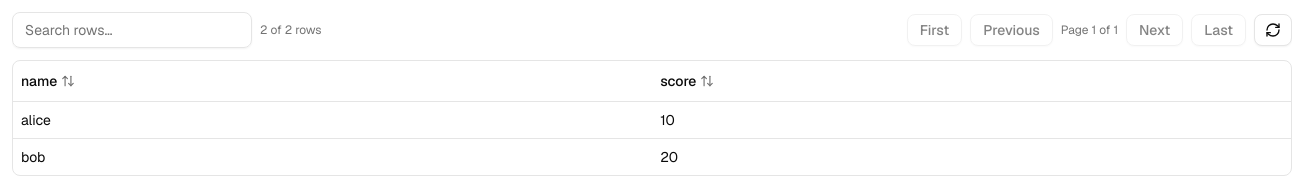
CSVViewer › filters rows by the search query
Expected: the text "alice" is shown, [21,110,51,128]
In the field with placeholder "Search rows…": (132, 30) [12,12,252,48], type "alice"
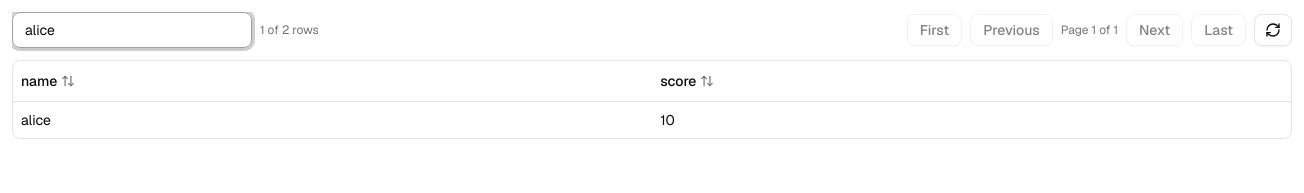
Expected: the text "bob" is gone
Expected: the number of rows is 2, [13,61,1291,101]; [13,101,1291,138]
